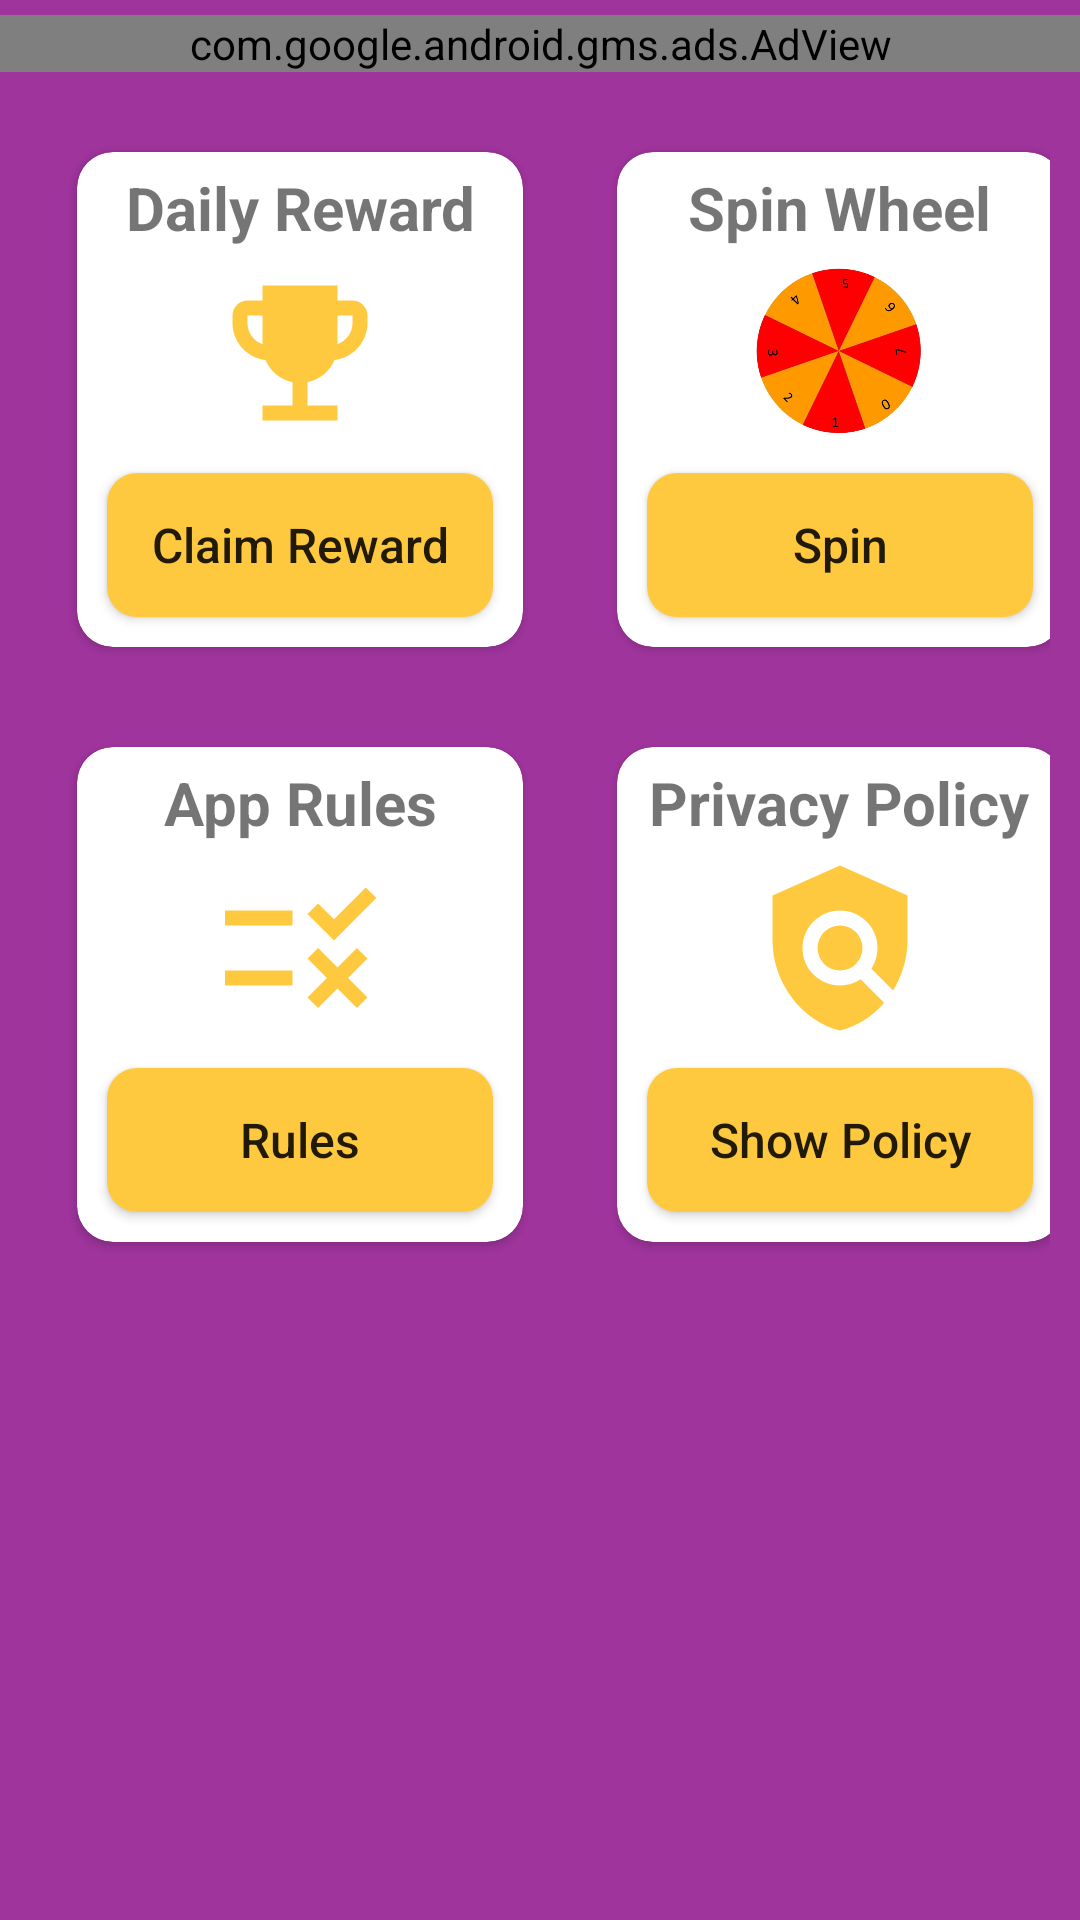

Where icons sit on this 1080x1920 app screen, as (x1, y1, x2, y2):
emoji events: (232, 285, 368, 421)
